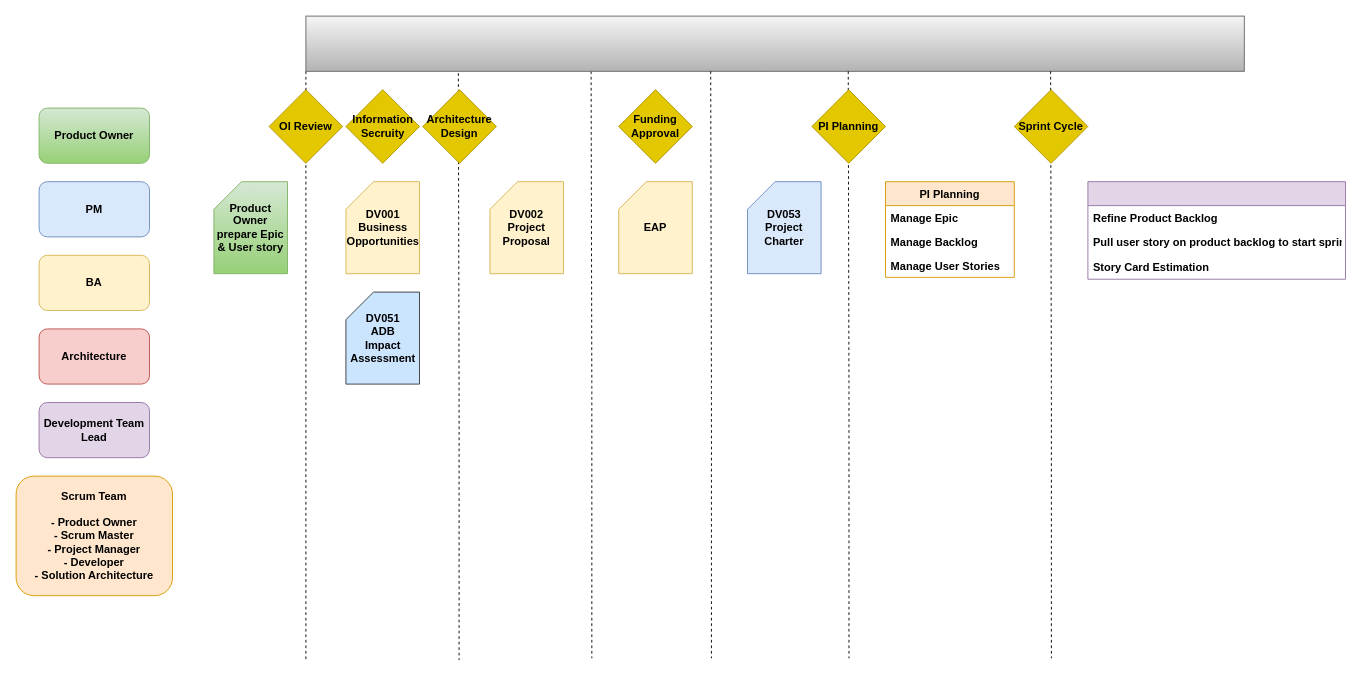
Image size: 1364x677. Some labels were removed from this diagram. Here are the shapes that lost their labels. From the top down, the box of each, then its label:
(305, 15, 1244, 71): Project Planning, Monitoring & Control
(1087, 181, 1346, 279): Sprint Planning
